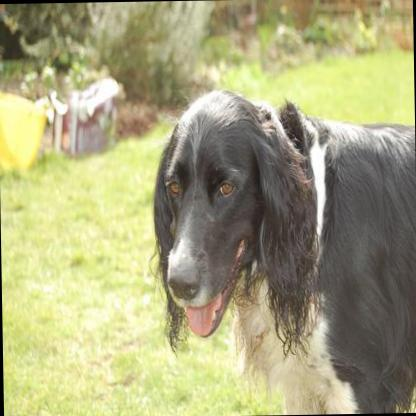English_springer: (145, 85, 416, 413)
